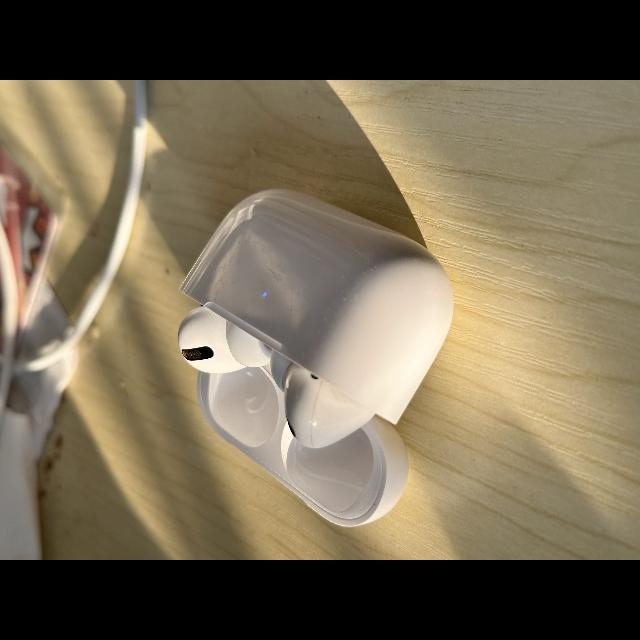AirPods Pro: (177, 189, 453, 527)
